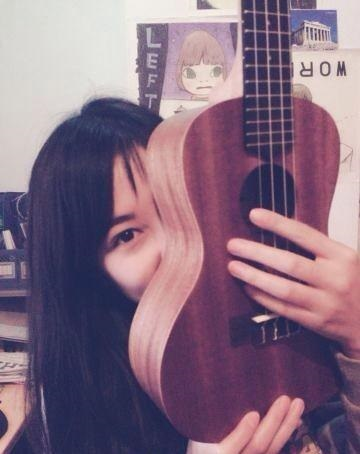face: (100, 166, 207, 304)
